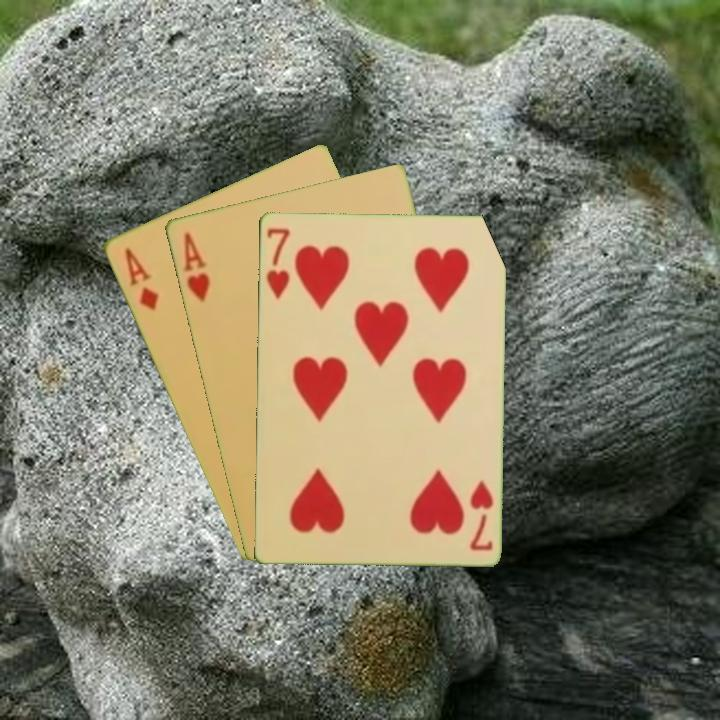7h: (262, 224, 293, 302), (466, 476, 496, 553)
Ad: (120, 244, 162, 314)
Ah: (179, 228, 212, 305)
